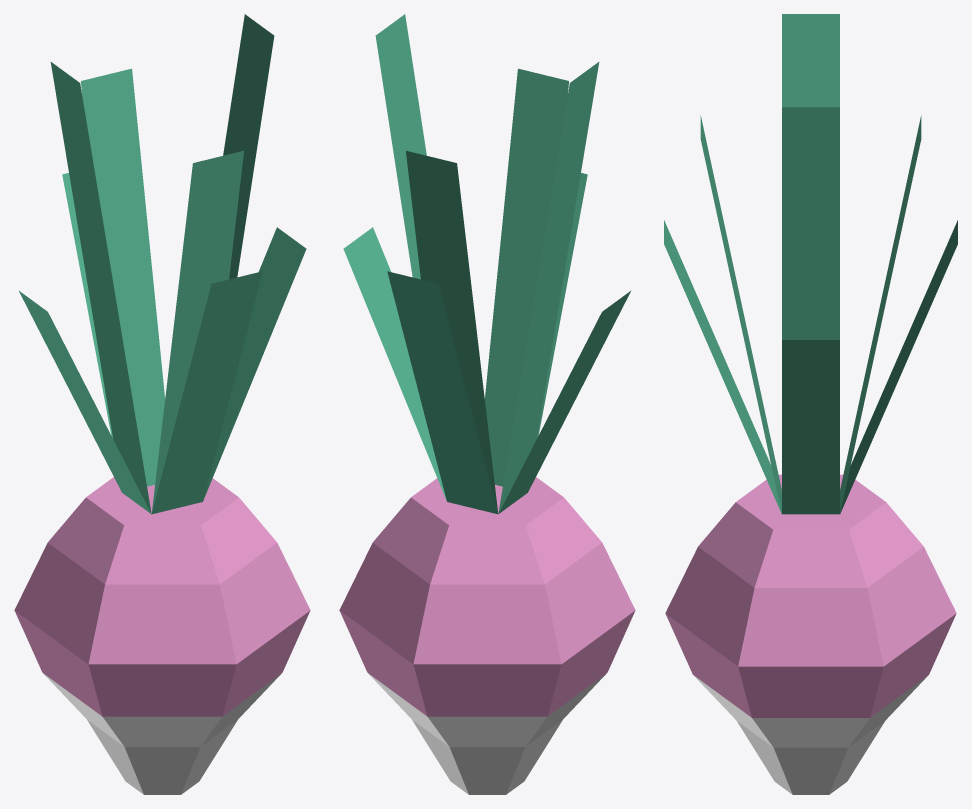
Rendered from beet.obj.
3 views of the same model, side by side, from view 1: azimuth 30°, elevation 25°; view 2: azimuth 150°, elevation 25°; view 3: azimuth 270°, elevation 25° (orthographic).
Visible parts, largest first — view 1: beet; view 2: beet; view 3: beet.
Boxes of the visible parts, box(x1,y1,x2,y2) form: beet: box(14, 14, 310, 794); beet: box(339, 14, 635, 794); beet: box(664, 14, 957, 794).
Bounding box in the file's own units: 0.098 × 0.2653 × 0.098.
